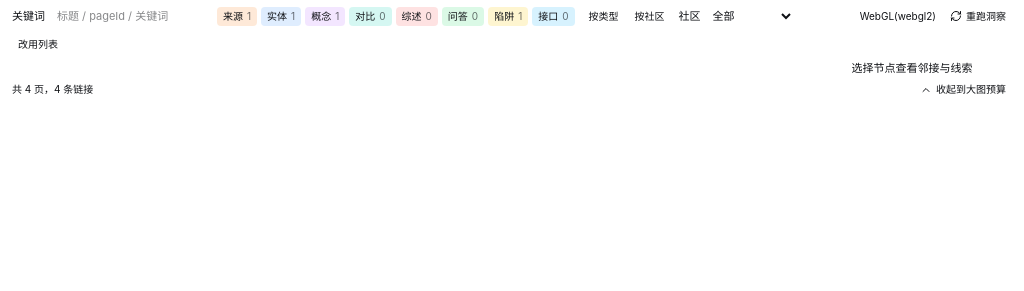
Scenario: KbWikiGraph — 邻接列表降级 › 可以手动在画布与列表之间切换（保留图数据，不需要重建）
The width and height of the screenshot is (1024, 291).
Expected: the element with test id "kb-wiki-graph" is shown, [0,0,1023,103]
Click the button with test id "kb-graph-toggle-list".
click(38, 44)  # box [12,34,64,54]
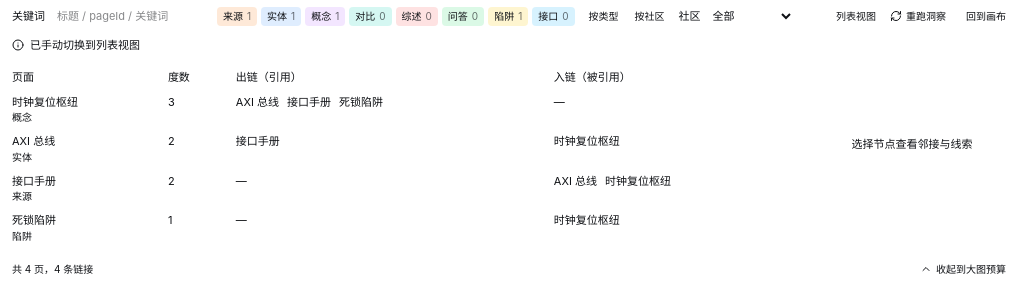
Now the element with test id "kb-graph-adjacency" is shown, box [12,38,671,242]
Click the button with test id "kb-graph-toggle-list".
click(986, 16)  # box [960,7,1012,26]
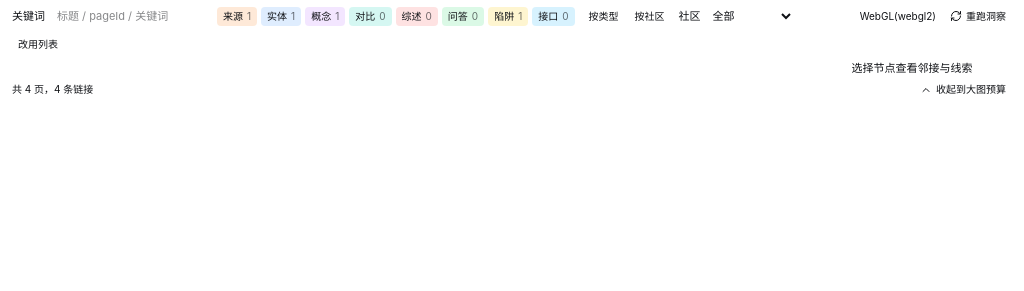
Now the element with test id "kb-graph-adjacency" is gone
